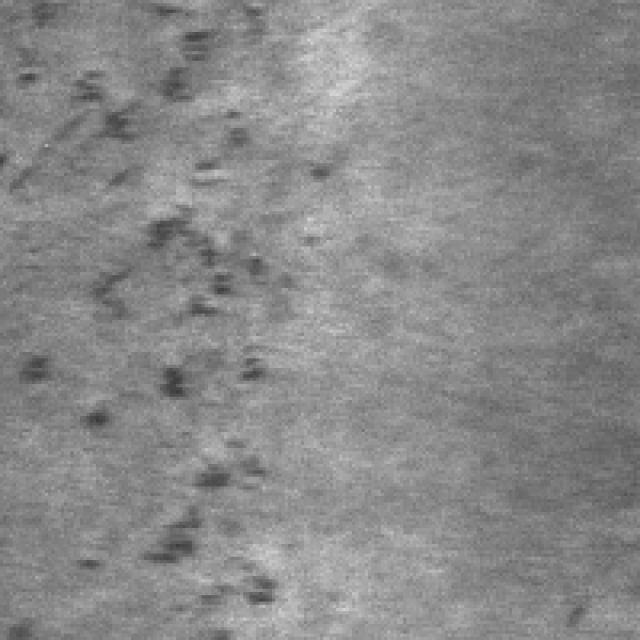rolled-in_scale: (109, 144, 294, 627), (10, 0, 268, 186)
